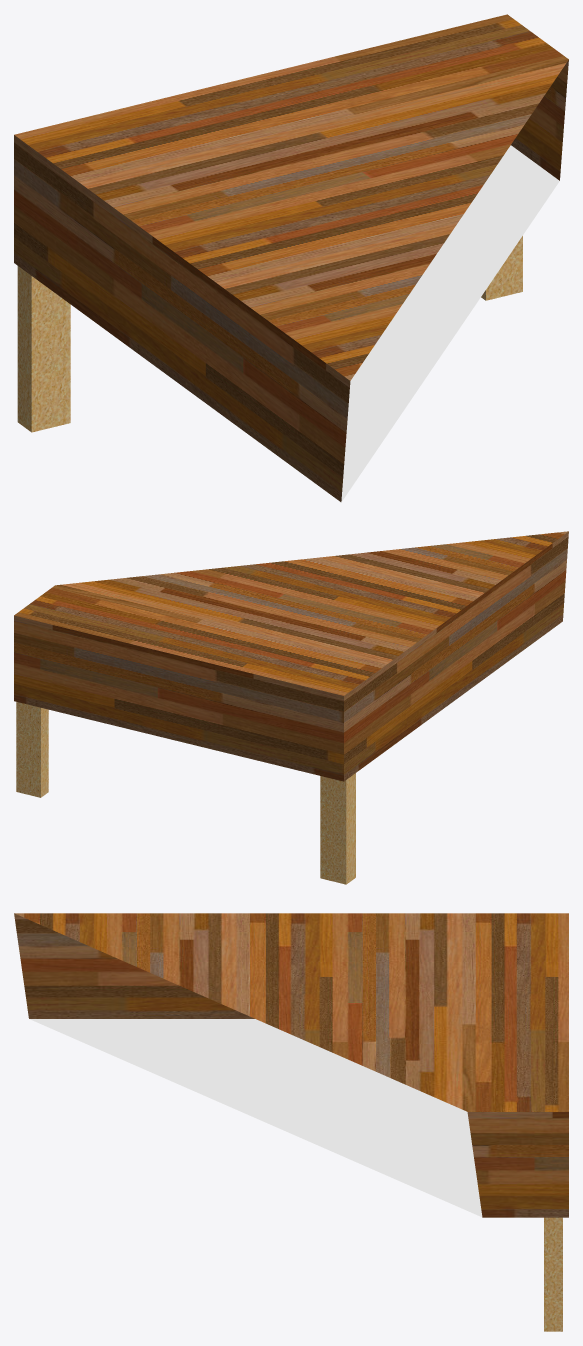
The model's file is table_half2.fbx.
3 views of the same model, one above another, from view 1: azimuth 30°, elevation 25°; view 2: azimuth 150°, elevation 25°; view 3: azimuth 270°, elevation 25° (orthographic). The views are drawn at different scales.
Parts seen in each view (by area): view 1: polySurface34; view 2: polySurface34; view 3: polySurface34.
Part boxes in pixels (box(x1,y1,x2,y2)): polySurface34: box(14, 14, 568, 502); polySurface34: box(14, 531, 568, 884); polySurface34: box(14, 913, 568, 1331).
Size of the model in its own units: 100 by 55.12 by 118.
